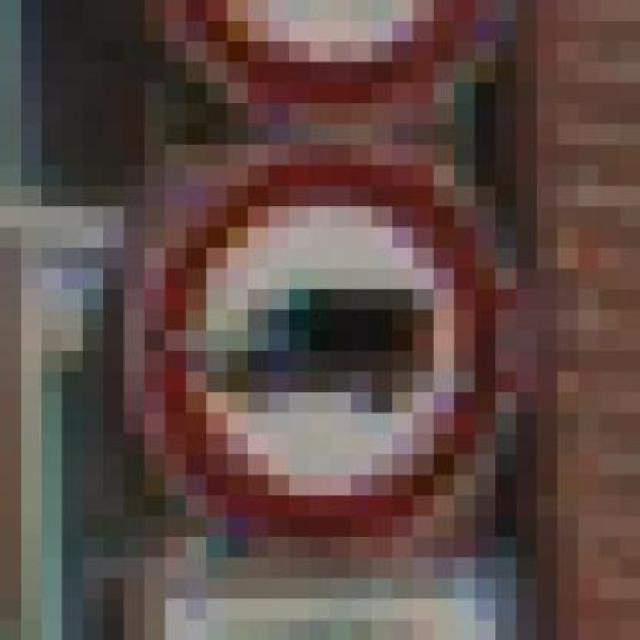Truck traffic is prohibited: (103, 82, 537, 558)
